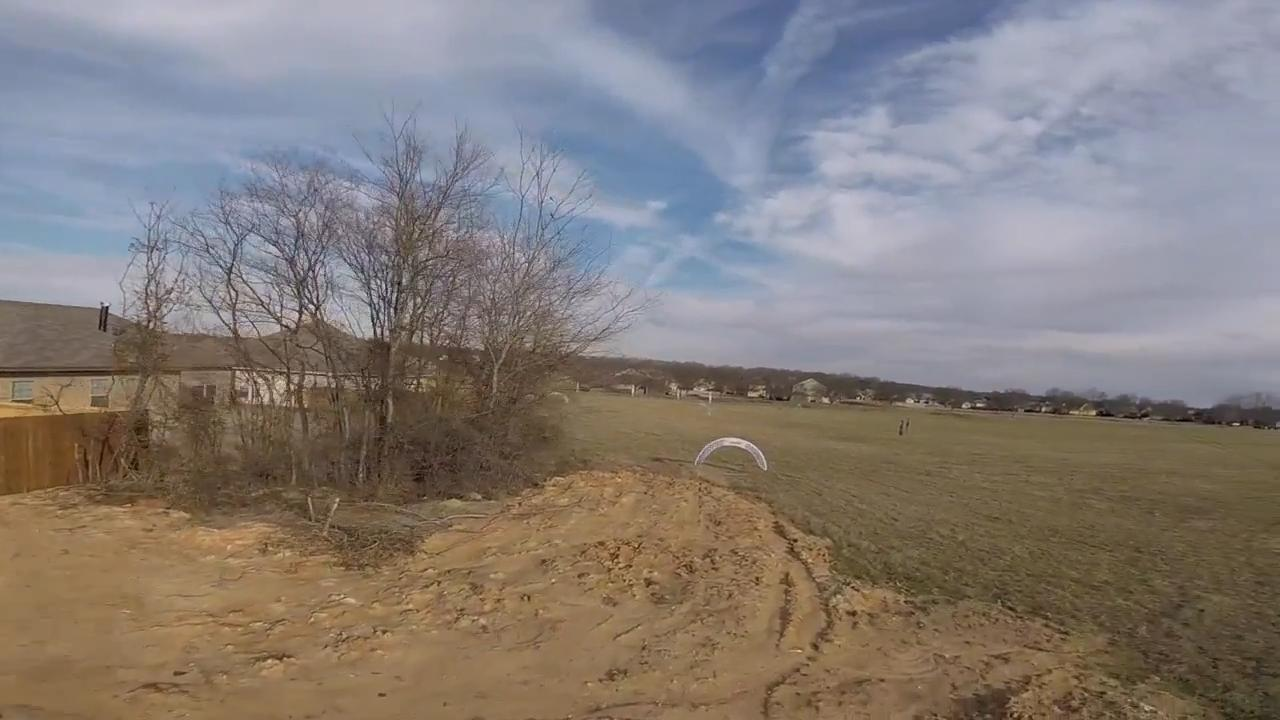gate: (691, 434, 773, 482)
